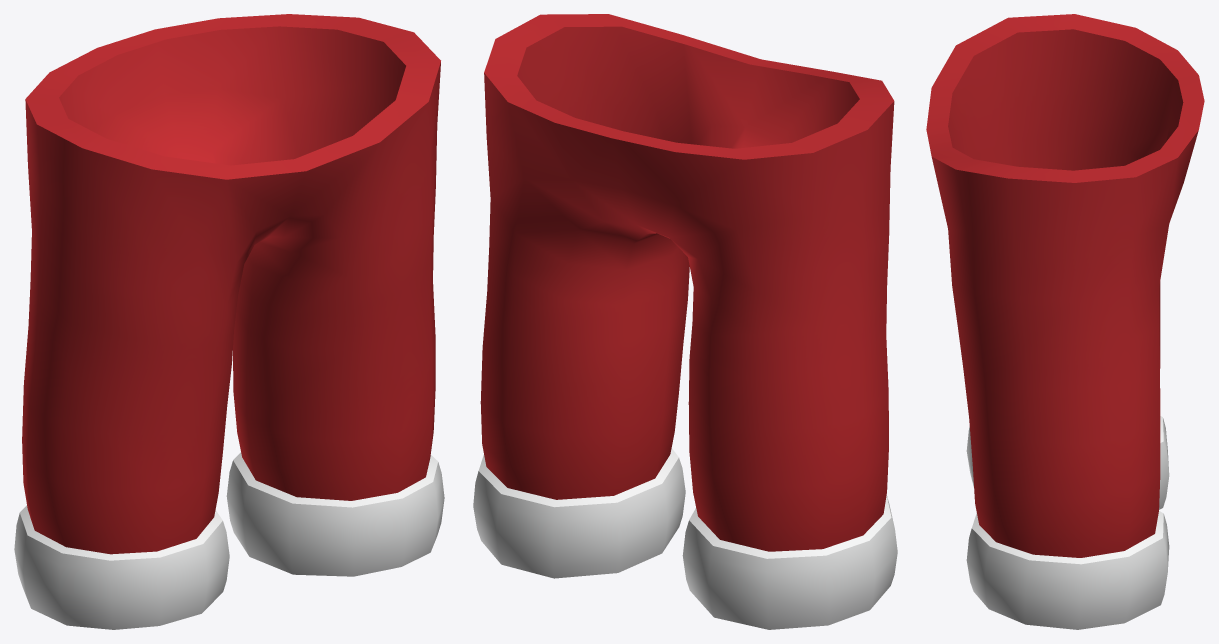
The model's file is Costume_10_04.glb.
The picture shows the model from 3 angles, left to right: view 1: azimuth 30°, elevation 25°; view 2: azimuth 150°, elevation 25°; view 3: azimuth 270°, elevation 25°; orthographic projection. The views are drawn at different scales.
Visible parts, largest first — view 1: Costume_10_04; view 2: Costume_10_04; view 3: Costume_10_04.
Boxes of the visible parts, <box> form: Costume_10_04: <box>14,14,444,629</box>; Costume_10_04: <box>473,14,897,629</box>; Costume_10_04: <box>926,14,1204,629</box>.
Size of the model in its own units: 0.2502 by 0.2937 by 0.1647.
1 material, 1 textured.
